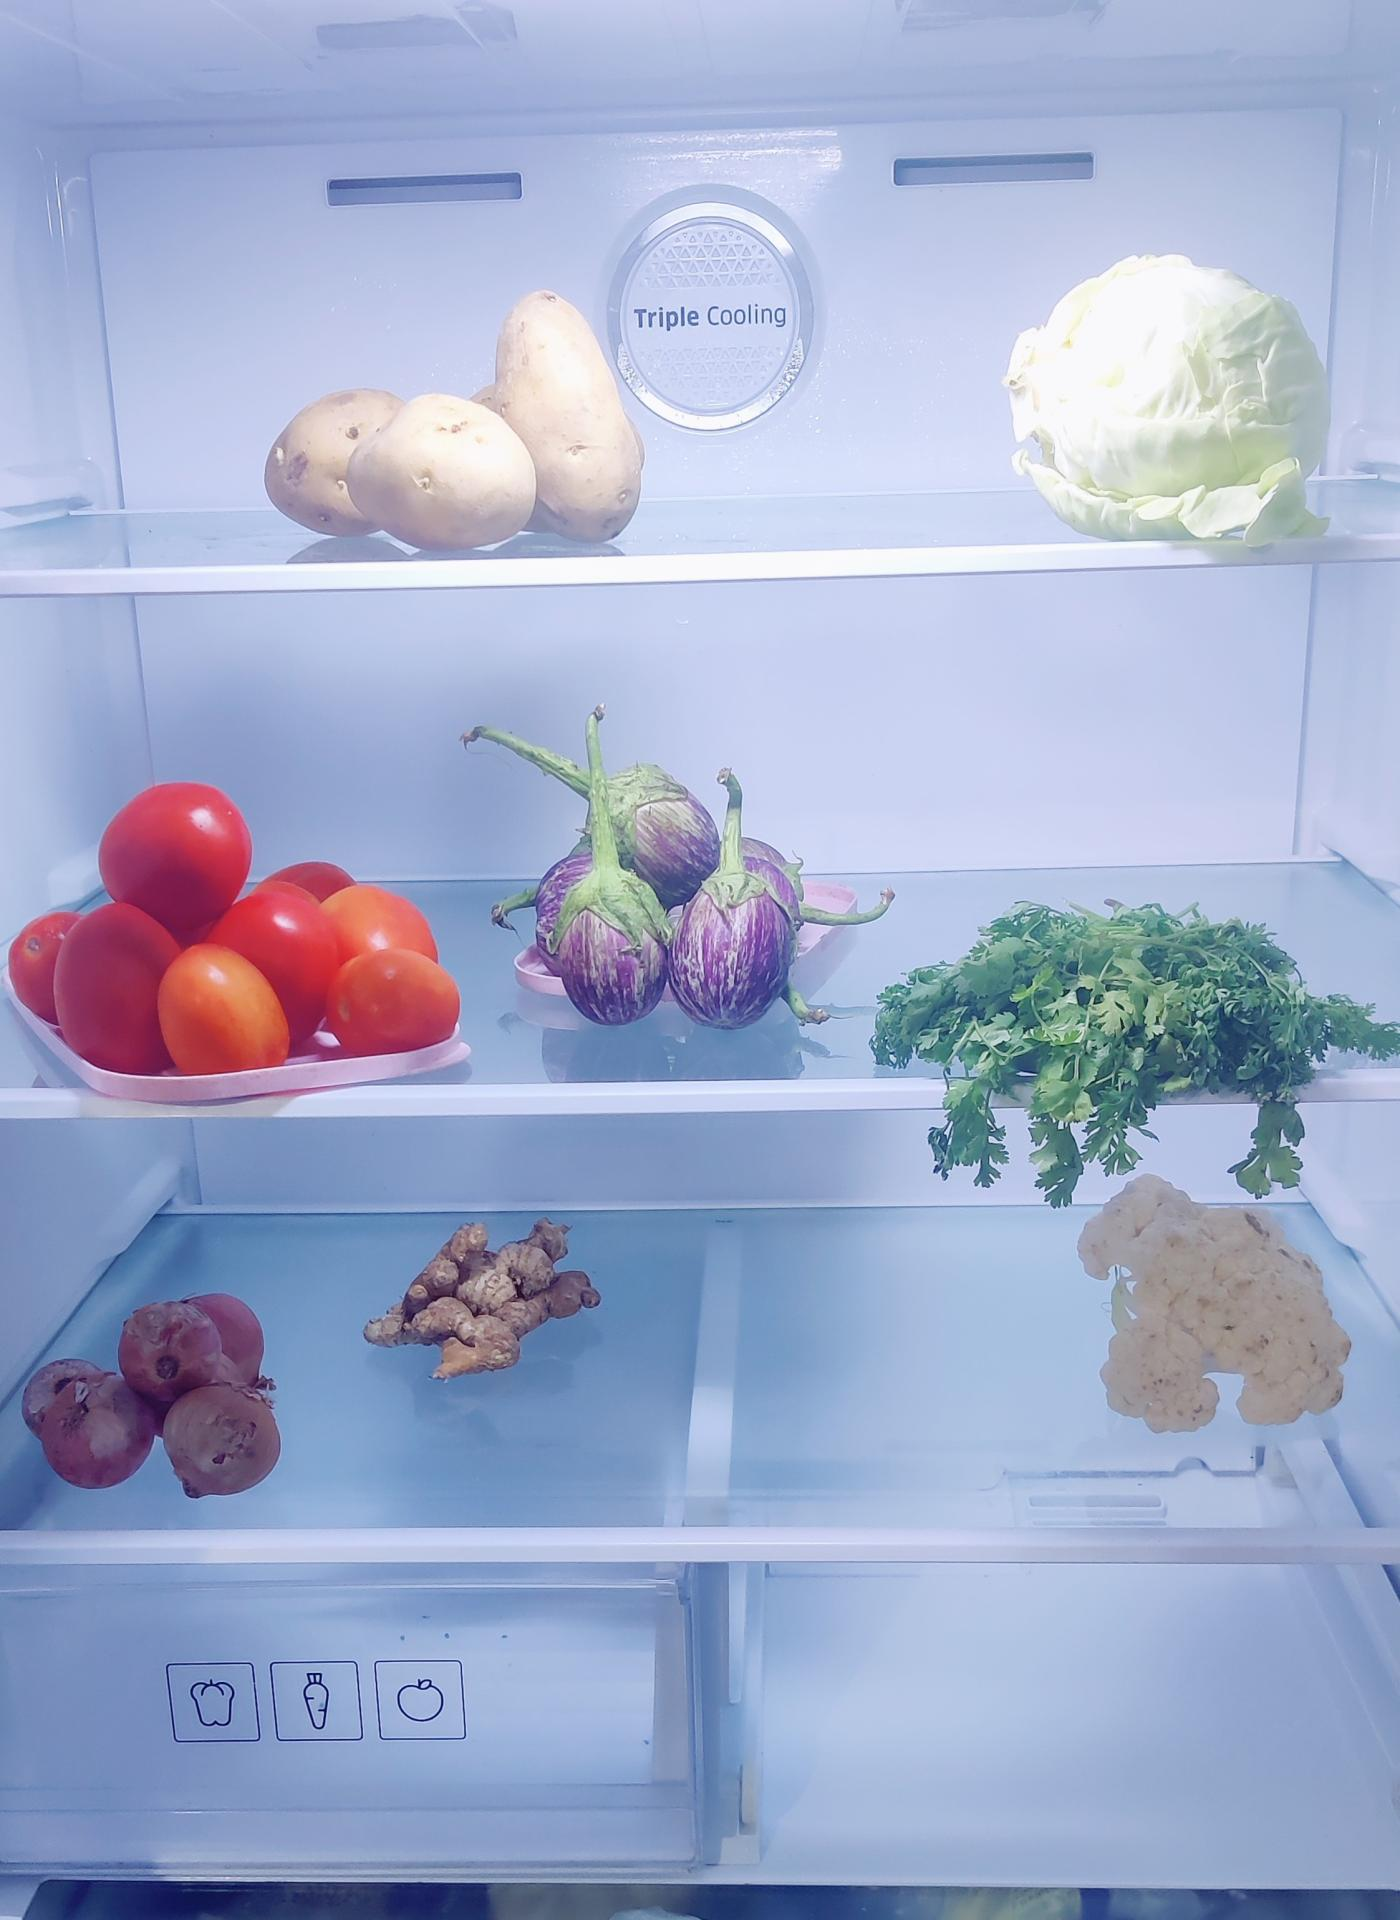brinjal: (529, 754, 804, 1020)
cabbage: (1017, 258, 1330, 529)
cauliflower: (1084, 1173, 1348, 1422)
coriander: (877, 897, 1367, 1146)
ginger: (371, 1210, 592, 1376)
onion: (28, 1291, 280, 1500)
potato: (264, 292, 641, 550)
tomato: (30, 783, 462, 1064)
